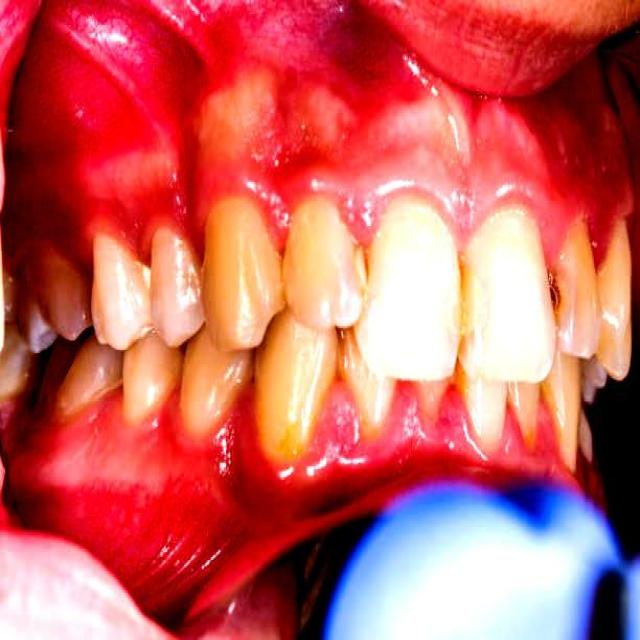caries: (346, 236, 398, 315), (537, 260, 575, 327)
